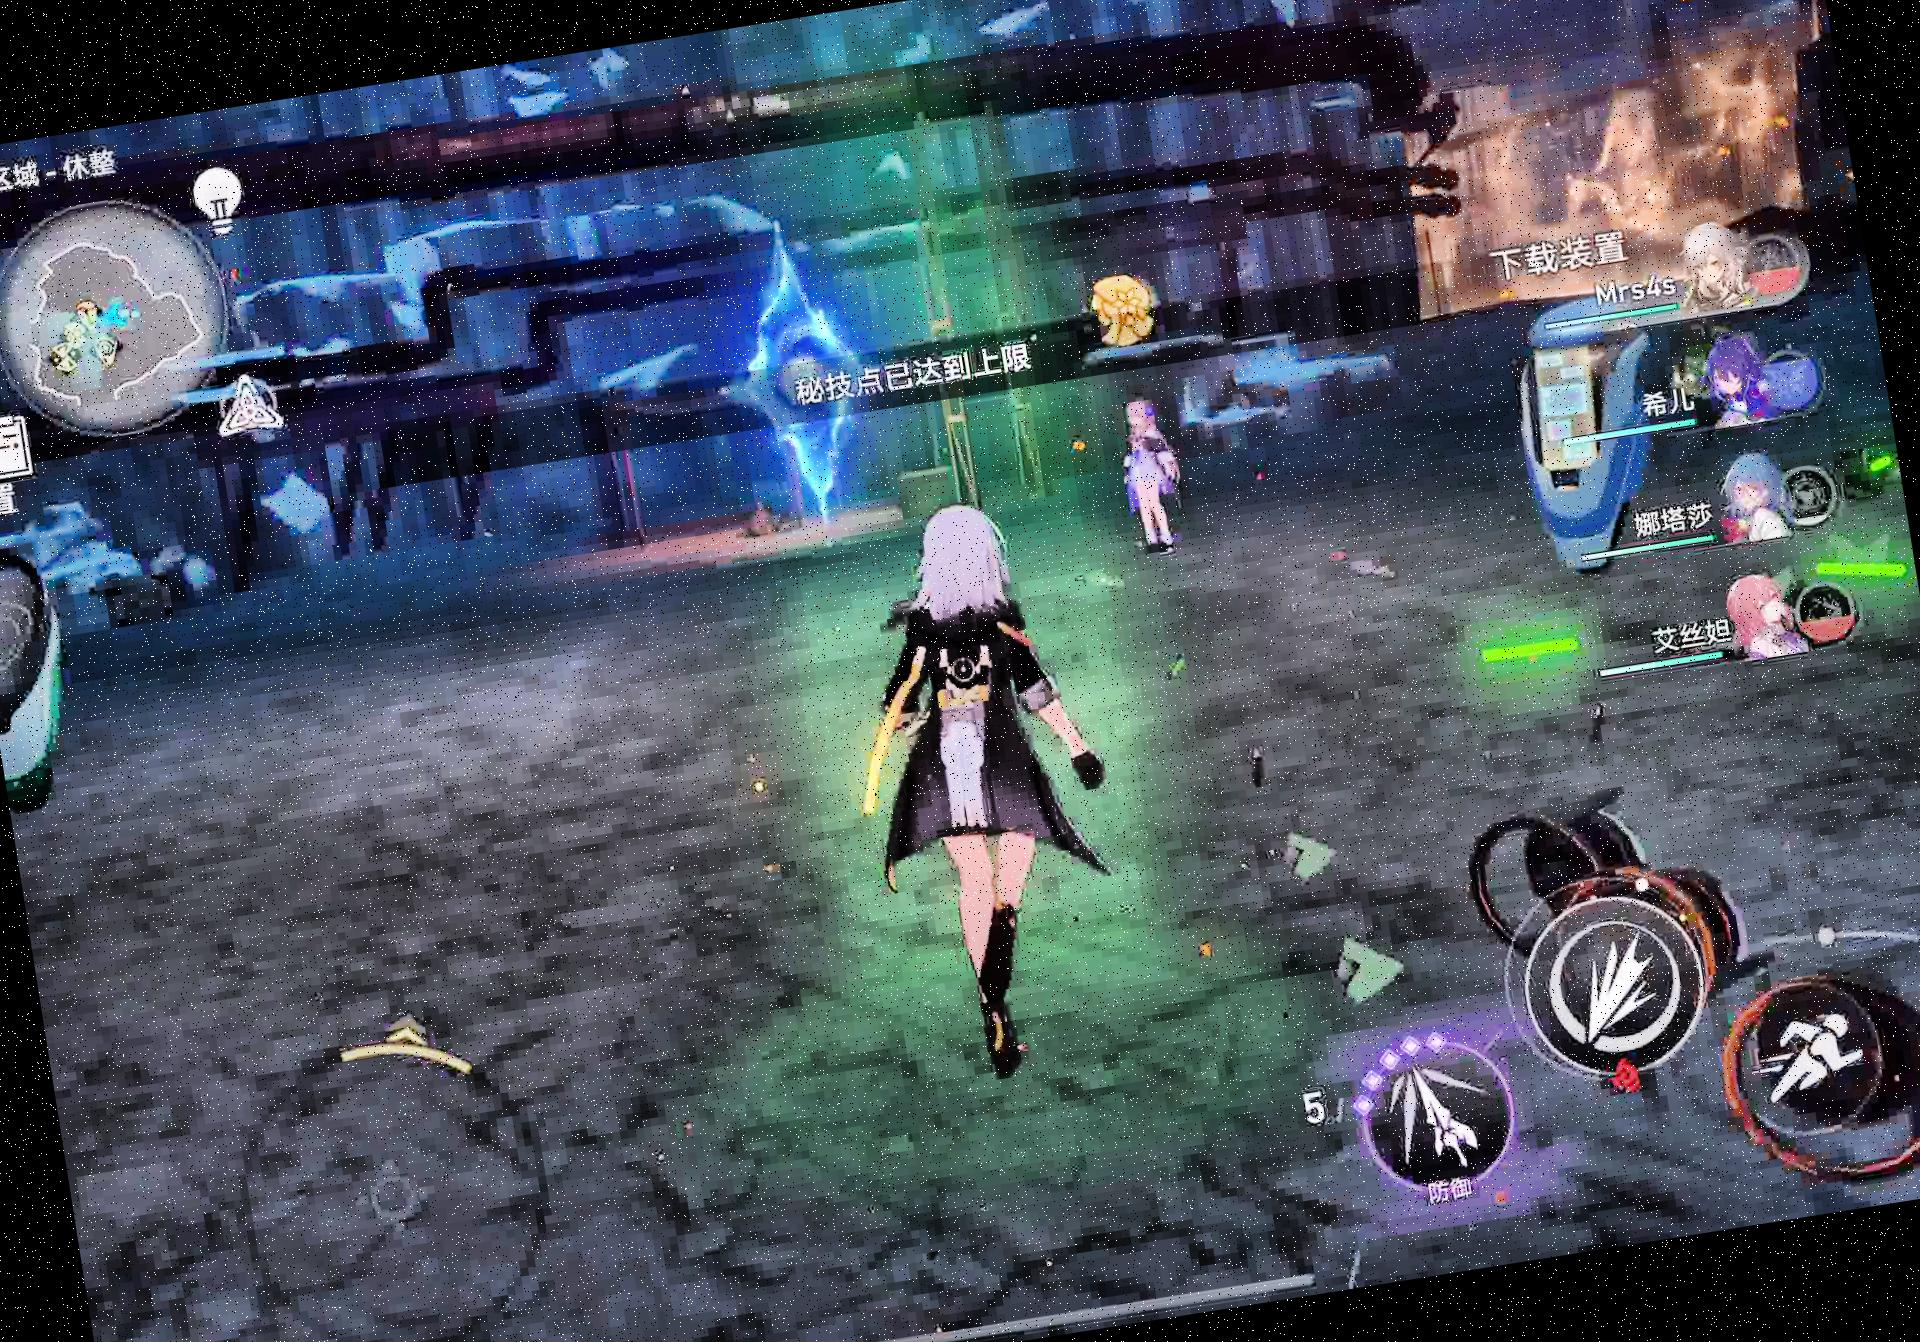EventDoor: (715, 241, 899, 527)
Self: (817, 483, 1161, 1142)
TeamMate: (1102, 397, 1193, 572)
